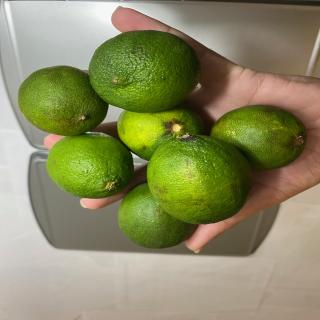Chilli: (18, 29, 307, 249), (88, 30, 201, 114)
Lemon: (146, 133, 253, 225), (210, 104, 307, 171), (18, 65, 108, 137), (46, 131, 134, 199), (117, 182, 198, 249), (117, 104, 204, 161)
